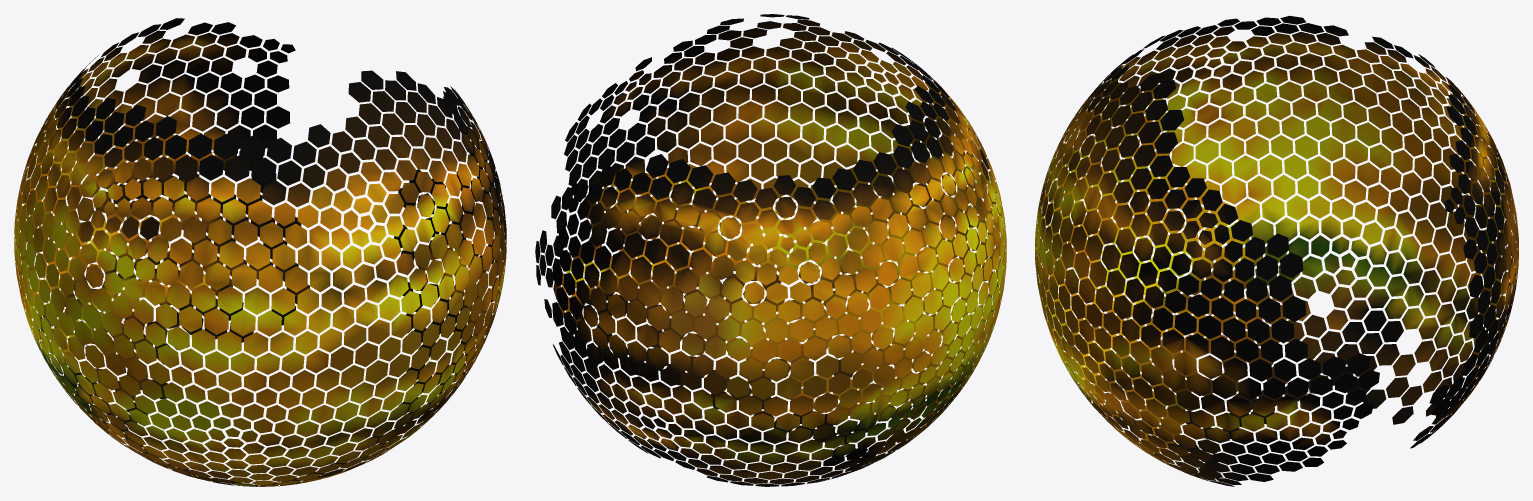
Rendered from plasma.fbx.
3 renders of one model, left to right at view 1: azimuth 30°, elevation 25°; view 2: azimuth 150°, elevation 25°; view 3: azimuth 270°, elevation 25°, orthographic. The views are drawn at different scales.
Parts seen in each view (by area): view 1: plasma; view 2: plasma; view 3: plasma.
Part boxes in pixels (box(x1,y1,x2,y2)): plasma: box(14, 18, 506, 486); plasma: box(535, 14, 1006, 486); plasma: box(1035, 15, 1518, 486).
Size of the model in its own units: 199 by 184 by 199.
